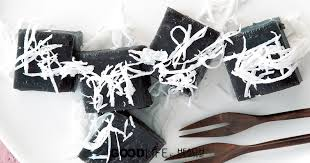kanompiakpoon: (217, 8, 306, 113), (146, 3, 225, 107), (78, 43, 158, 121), (13, 22, 84, 100), (72, 106, 168, 163)
